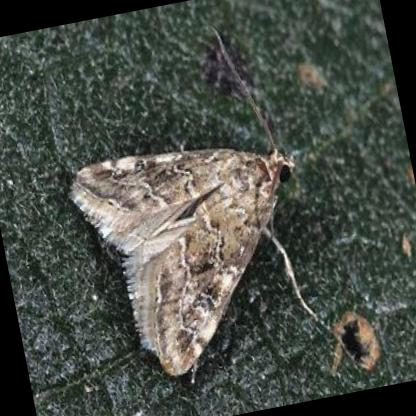Hellula undalis: (61, 25, 357, 378)
